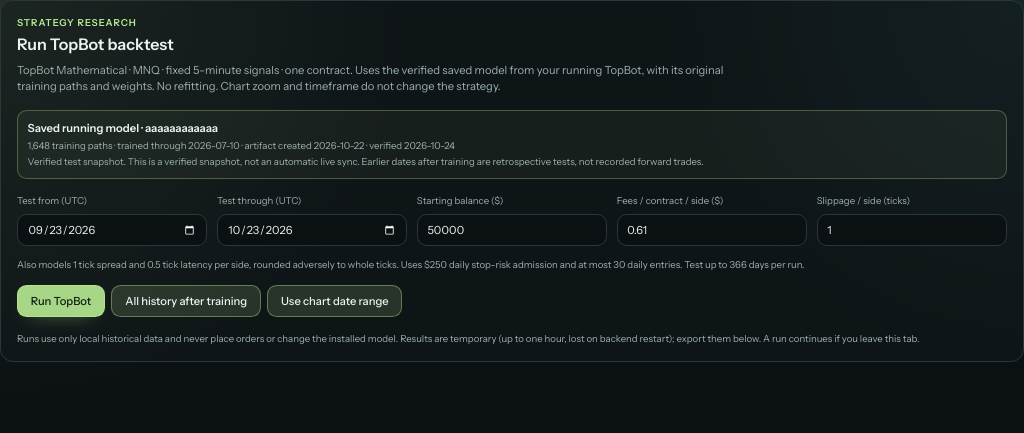
Test case: rejects multi-year requests without submitting them
Check: the text "Saved running model" is shown, box [28,121,145,135]
Type "2019-01-01" into the date field named "Backtest from" at [112, 230], box [17,214,207,246]
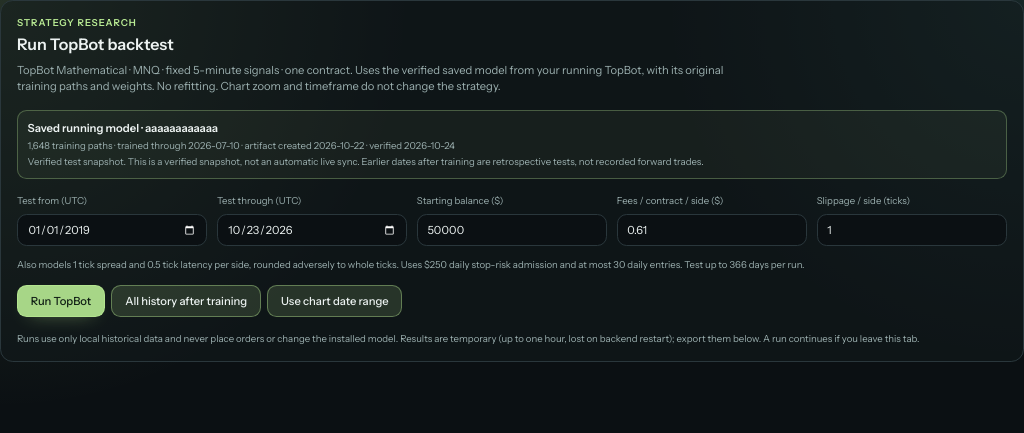
Click the button "Run TopBot" at [61, 300], box [17,284,105,316]
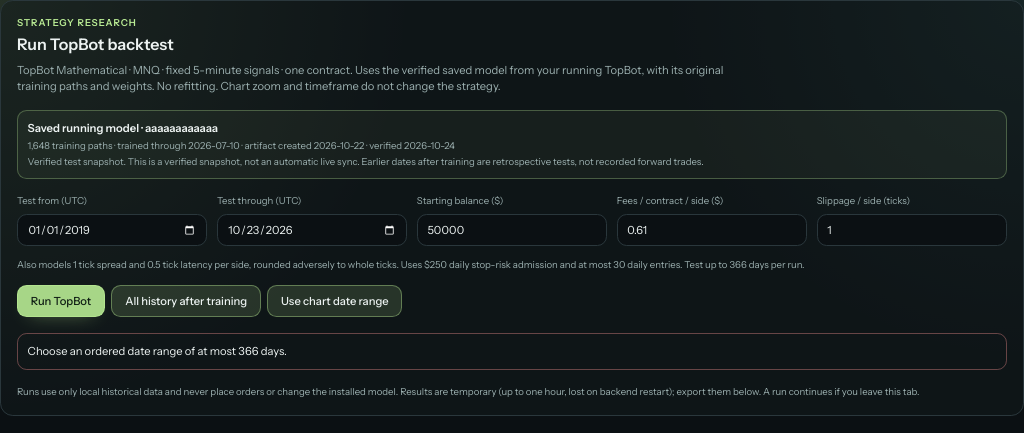
Check: the message shows "at most 366 days", box [28,344,287,358]
